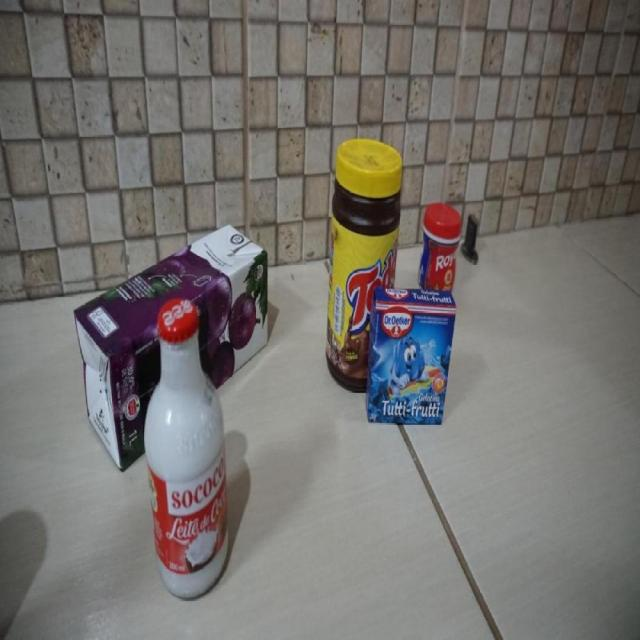ChocolatePowder: (325, 137, 403, 392)
CoconutMilk: (144, 296, 232, 602)
Gelatine: (365, 284, 457, 429)
Yeast: (417, 200, 462, 295)
